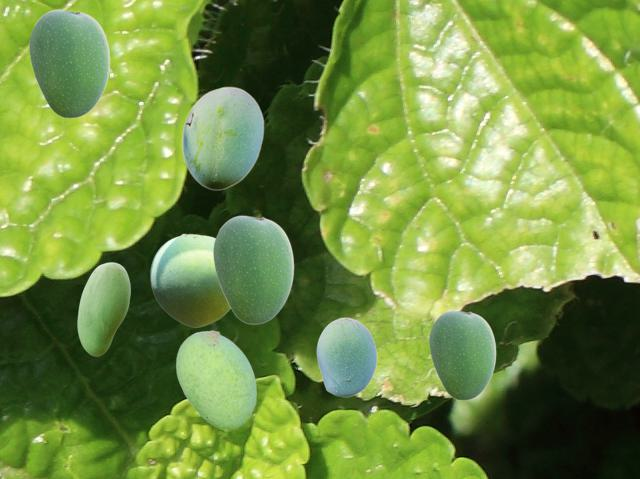green_mango: (29, 9, 109, 117), (213, 215, 293, 323), (181, 86, 263, 189), (176, 330, 255, 428), (150, 233, 229, 326), (429, 310, 495, 399), (77, 262, 129, 355), (316, 317, 376, 396)
